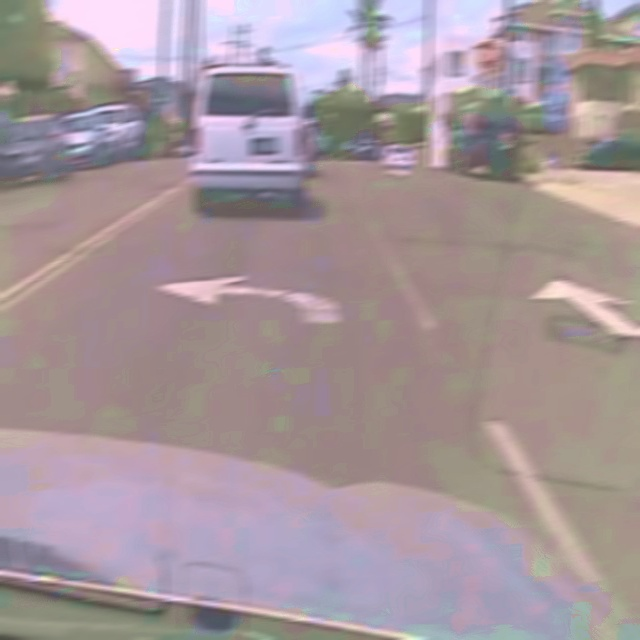stop: (480, 39, 502, 70)
